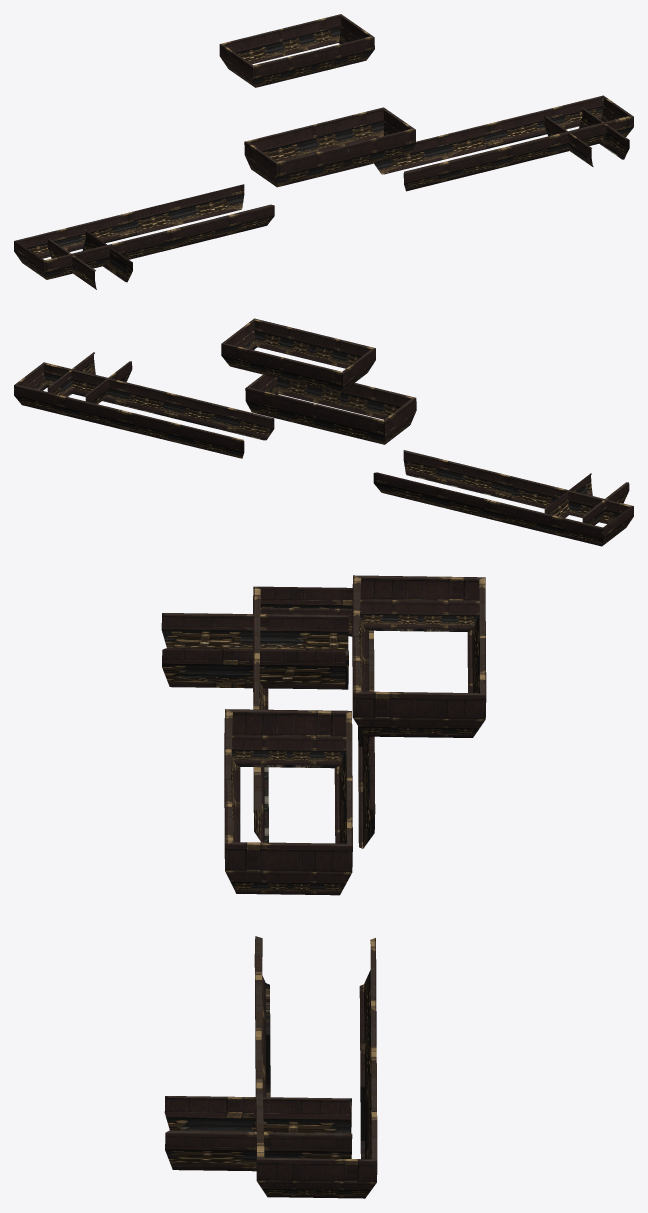
The model's file is jd_fangzi_3.FBX.
The picture shows the model from 3 angles, top to bottom: view 1: azimuth 30°, elevation 25°; view 2: azimuth 150°, elevation 25°; view 3: azimuth 270°, elevation 25°; orthographic projection. The views are drawn at different scales.
Visible parts, largest first — view 1: jd_fangzi_3; view 2: jd_fangzi_3; view 3: jd_fangzi_3.
Boxes of the visible parts, x1,y1,x2,y2 form: jd_fangzi_3: [14, 14, 633, 289]; jd_fangzi_3: [14, 318, 633, 546]; jd_fangzi_3: [161, 575, 486, 1198].
Size of the model in its own units: 2351 by 538 by 561.
